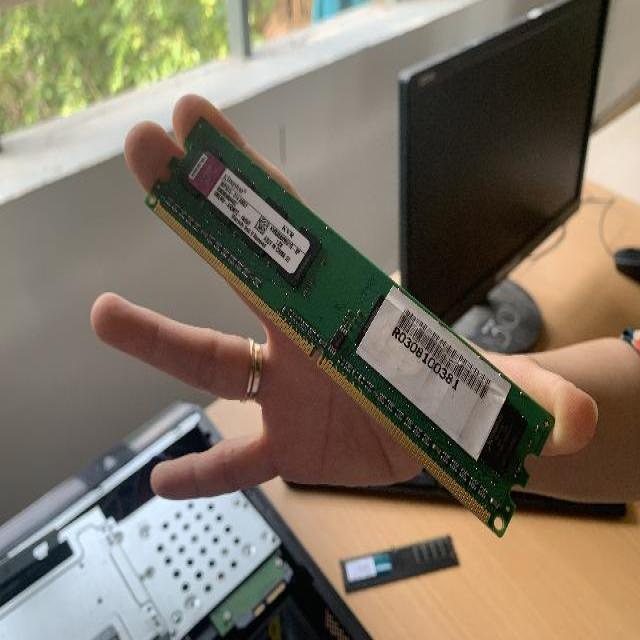RAM: (139, 112, 557, 543), (328, 528, 472, 607)
